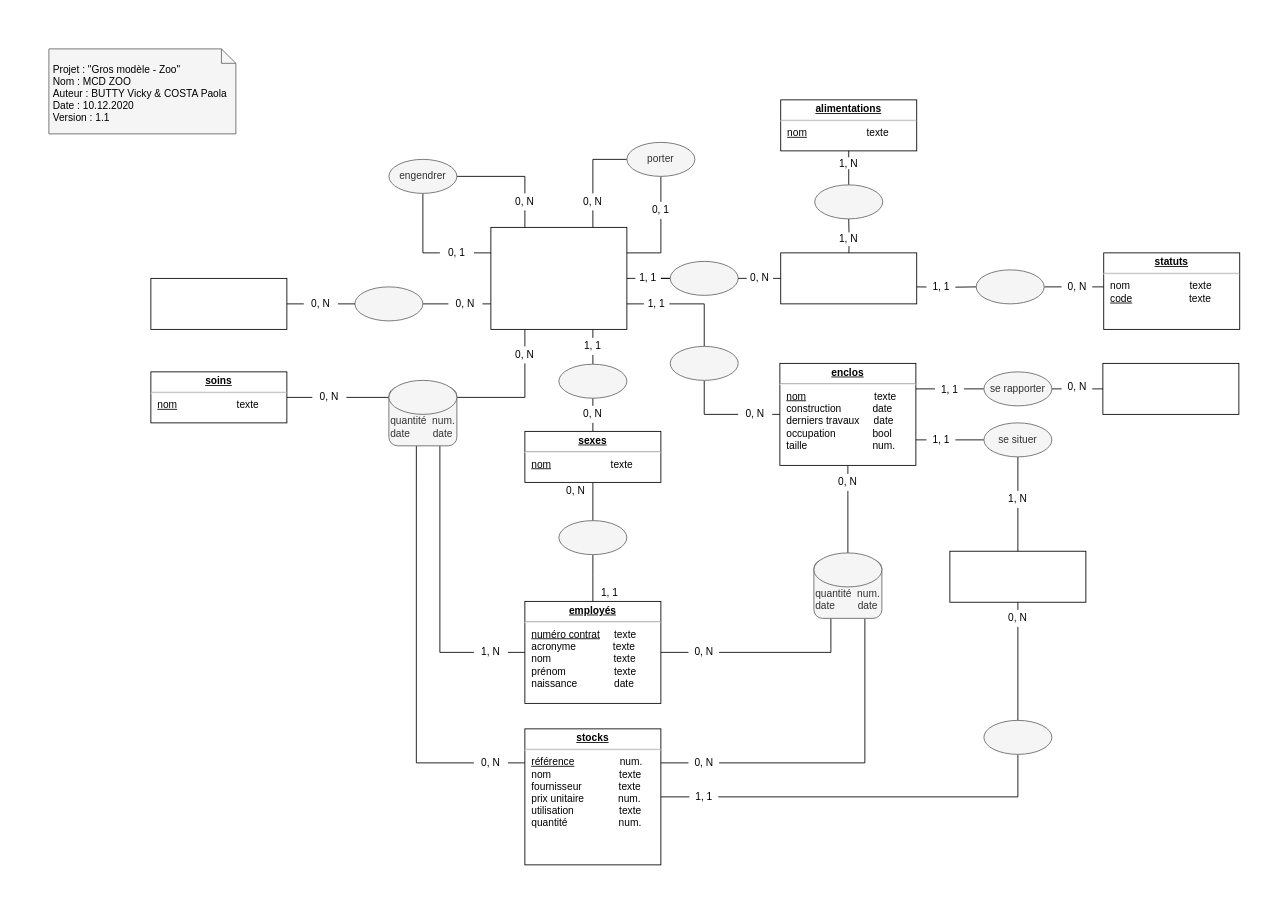
Some shapes in this 1287 by 913 pixel diagram are drawn without their labels. The box of each missing label's shape, as (x1, y1, x2, y2) in pixels:
animaux nom texte naissance date dernier repas date heure remarque texte: (490, 227, 627, 329)
appartenir à: (669, 261, 738, 295)
bénéficier: (975, 269, 1044, 304)
espèces nom texte: (780, 252, 917, 304)
posséder: (814, 184, 883, 219)
ravitailler: (813, 552, 882, 587)
se définir: (558, 520, 627, 555)
se trouver: (354, 286, 423, 321)
secteurs nom texte: (949, 550, 1086, 602)
suivre: (388, 380, 457, 414)
types nom texte: (1102, 363, 1239, 414)
vivre: (669, 346, 738, 380)
états nom texte: (150, 278, 287, 329)
être: (558, 363, 627, 398)
être rangé: (983, 720, 1052, 754)
